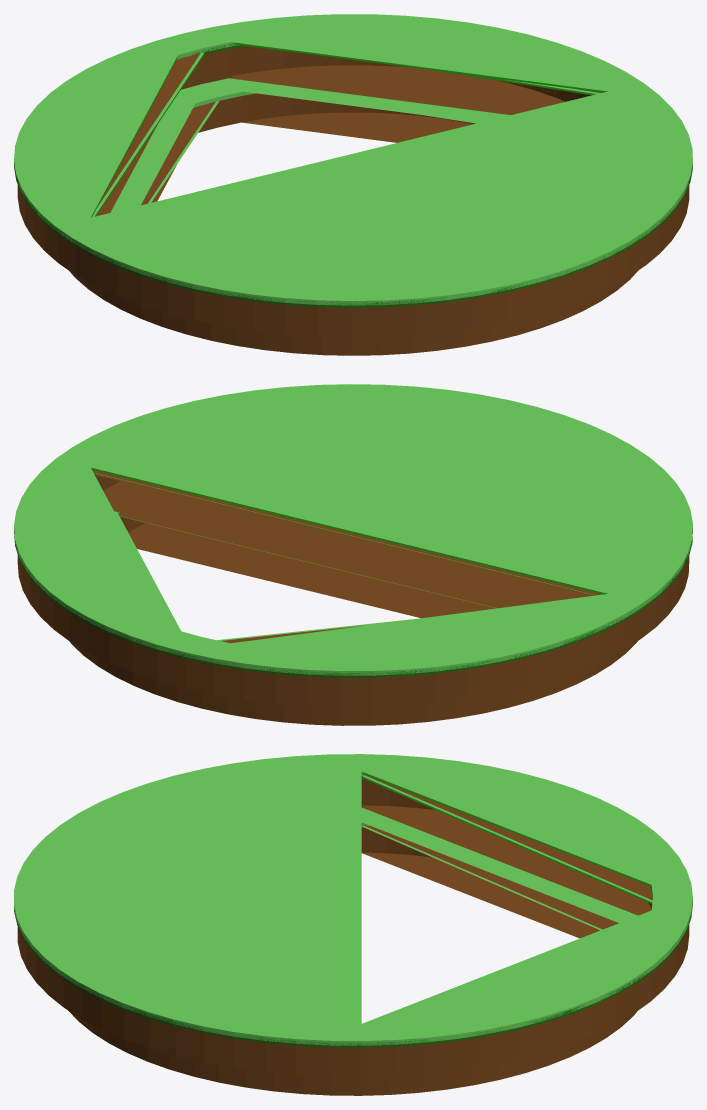
File: bordure_herbe.fbx
3 renders of one model, top to bottom at view 1: azimuth 30°, elevation 25°; view 2: azimuth 150°, elevation 25°; view 3: azimuth 270°, elevation 25°, orthographic.
Visible parts, largest first — view 1: Cylinder.004, Cylinder.006, Cylinder, Cylinder.007, Cylinder.002, Cylinder.005, Cylinder.009, Cylinder.001, Cylinder.008; view 2: Cylinder.004, Cylinder.006, Cylinder, Cylinder.007, Cylinder.009, Cylinder.005; view 3: Cylinder.004, Cylinder.006, Cylinder, Cylinder.007, Cylinder.005, Cylinder.002, Cylinder.009, Cylinder.001, Cylinder.008.
Part boxes in pixels (x1=…): Cylinder.004: x1=14, y1=14, x2=692, y2=305; Cylinder.006: x1=19, y1=46, x2=689, y2=335; Cylinder: x1=69, y1=93, x2=637, y2=355; Cylinder.007: x1=17, y1=46, x2=689, y2=337; Cylinder.002: x1=110, y1=78, x2=510, y2=212; Cylinder.005: x1=84, y1=39, x2=614, y2=219; Cylinder.009: x1=14, y1=163, x2=692, y2=307; Cylinder.001: x1=134, y1=89, x2=485, y2=206; Cylinder.008: x1=91, y1=43, x2=606, y2=217; Cylinder.004: x1=14, y1=384, x2=692, y2=675; Cylinder.006: x1=19, y1=470, x2=689, y2=705; Cylinder: x1=69, y1=512, x2=637, y2=725; Cylinder.007: x1=17, y1=473, x2=689, y2=707; Cylinder.009: x1=14, y1=468, x2=692, y2=677; Cylinder.005: x1=84, y1=466, x2=614, y2=646; Cylinder.004: x1=14, y1=754, x2=692, y2=1045; Cylinder.006: x1=17, y1=775, x2=689, y2=1075; Cylinder: x1=68, y1=825, x2=637, y2=1095; Cylinder.007: x1=17, y1=778, x2=689, y2=1077; Cylinder.005: x1=361, y1=768, x2=660, y2=1026; Cylinder.002: x1=361, y1=807, x2=637, y2=921; Cylinder.009: x1=14, y1=904, x2=692, y2=1047; Cylinder.001: x1=361, y1=819, x2=622, y2=930; Cylinder.008: x1=361, y1=773, x2=652, y2=903.
Size of the model in its own units: 39690 by 4548 by 39679.
